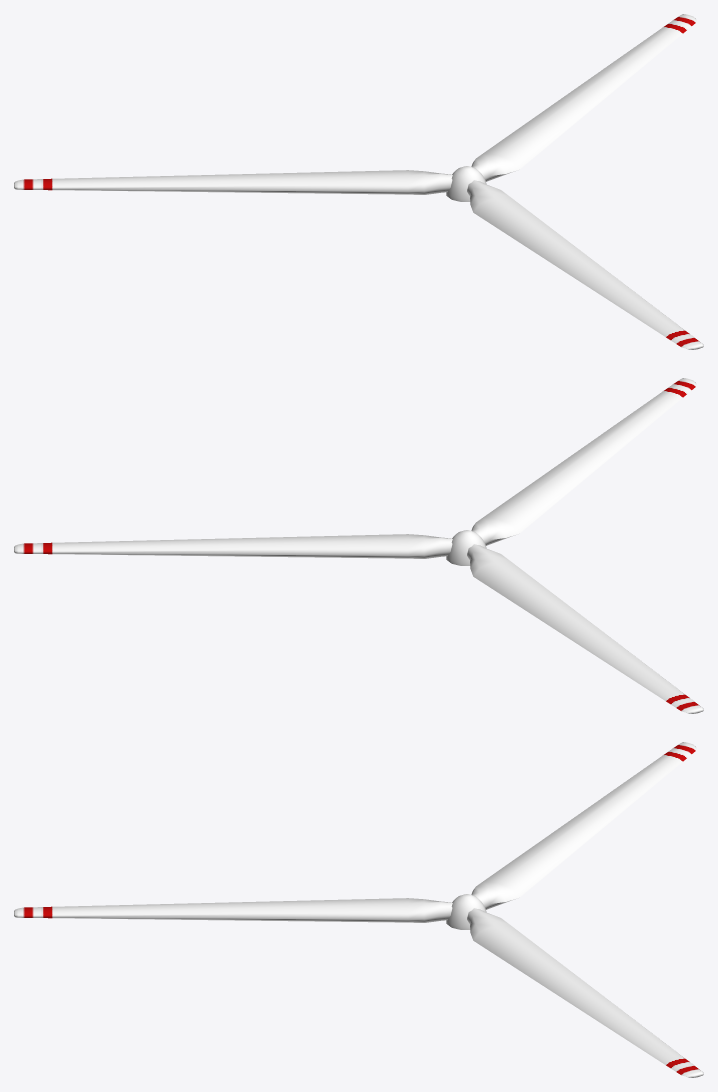
File: turbine_blades.obj
3 renders of one model, top to bottom at view 1: azimuth 30°, elevation 25°; view 2: azimuth 150°, elevation 25°; view 3: azimuth 270°, elevation 25°, orthographic.
Visible parts, largest first — view 1: BladeRest; view 2: BladeRest; view 3: BladeRest.
Part boxes in pixels (left/top/right/bottom): BladeRest: left=14, top=14, right=703, bottom=349; BladeRest: left=14, top=378, right=703, bottom=713; BladeRest: left=14, top=742, right=703, bottom=1077.
Bounding box in the file's own units: 69.07 × 2.46 × 60.28.
1 material, 1 textured.
